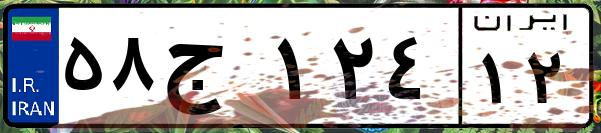1: (270, 28, 330, 110), (475, 38, 525, 113)
2: (330, 28, 385, 110), (525, 38, 570, 115)
4: (385, 28, 445, 110)
5: (57, 26, 110, 100)
8: (110, 28, 158, 98)
ج: (158, 20, 270, 120)
